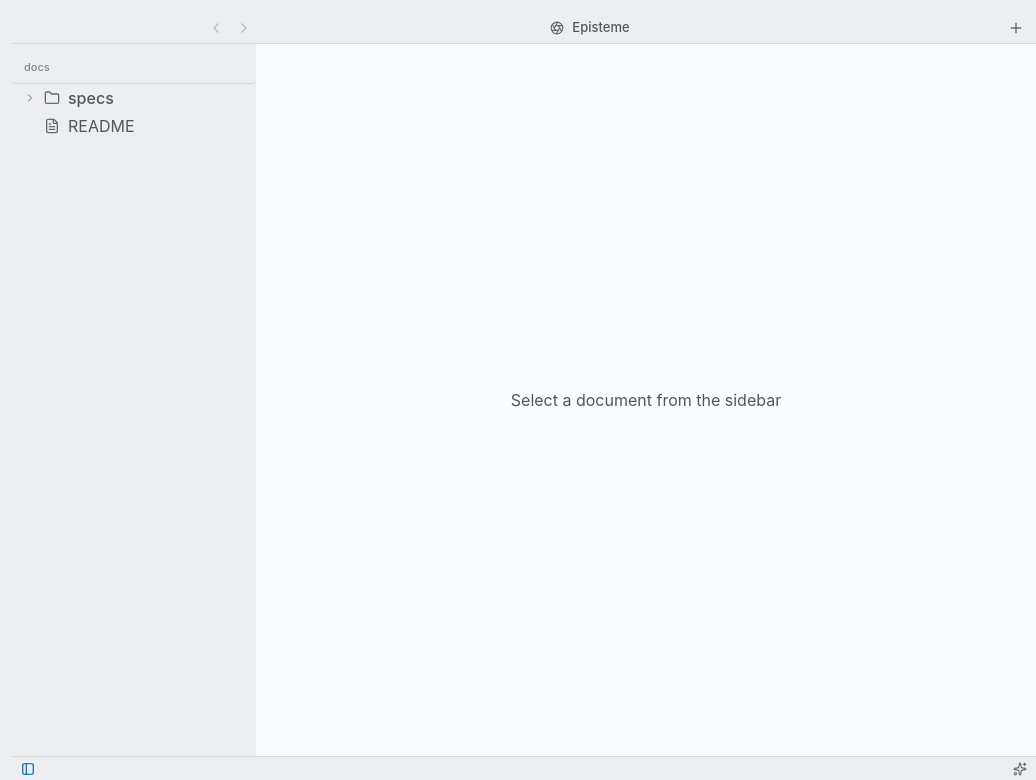
Test: Sidebar integration › click folder again → collapses children
Click the list item "specs" at (134, 98), box [12,84,256,112]
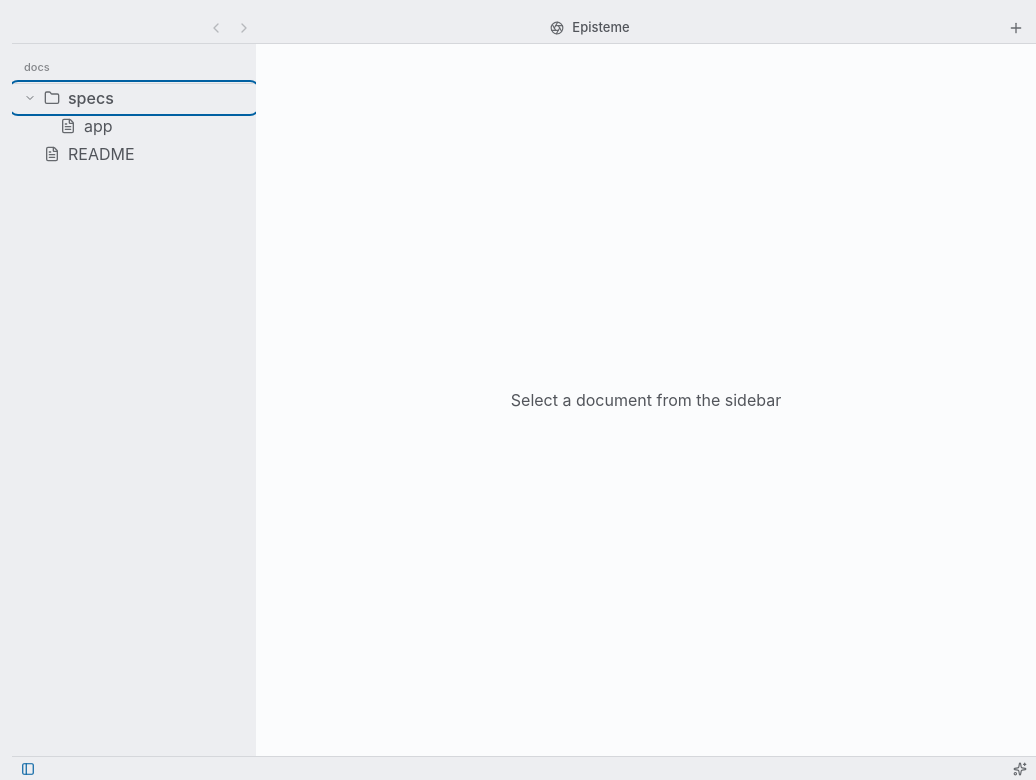
Check: the text "app" is shown, box [84,114,113,138]
Click the list item "specs" at (134, 98), box [12,84,256,112]
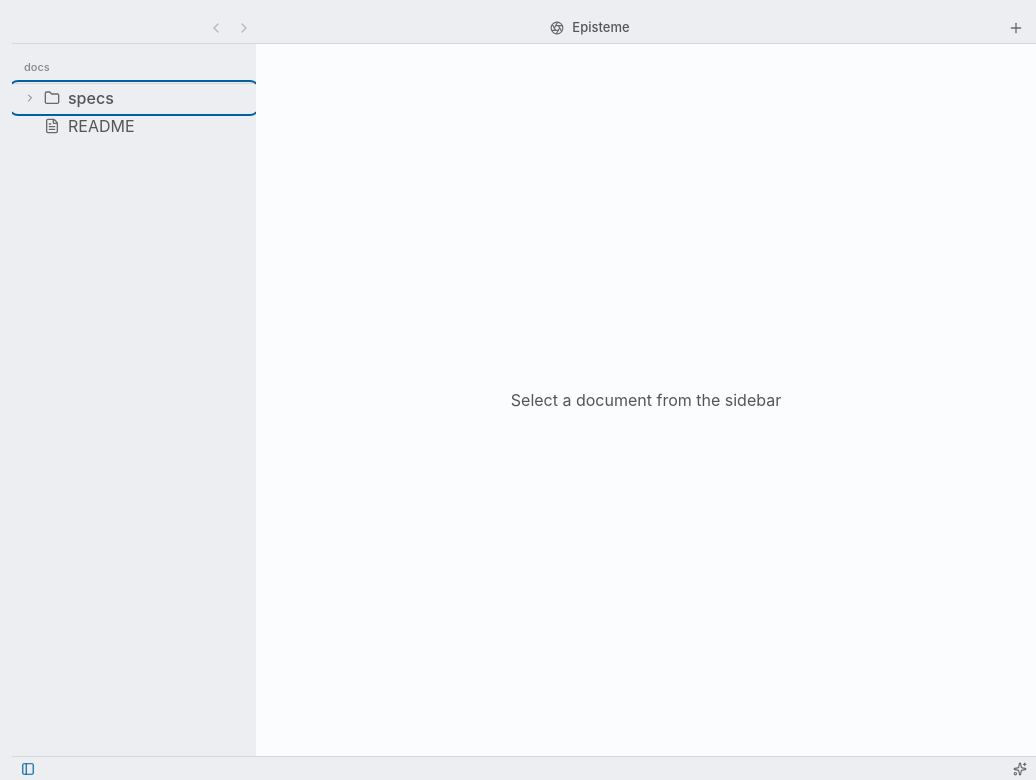
Check: the list item "app" is gone
